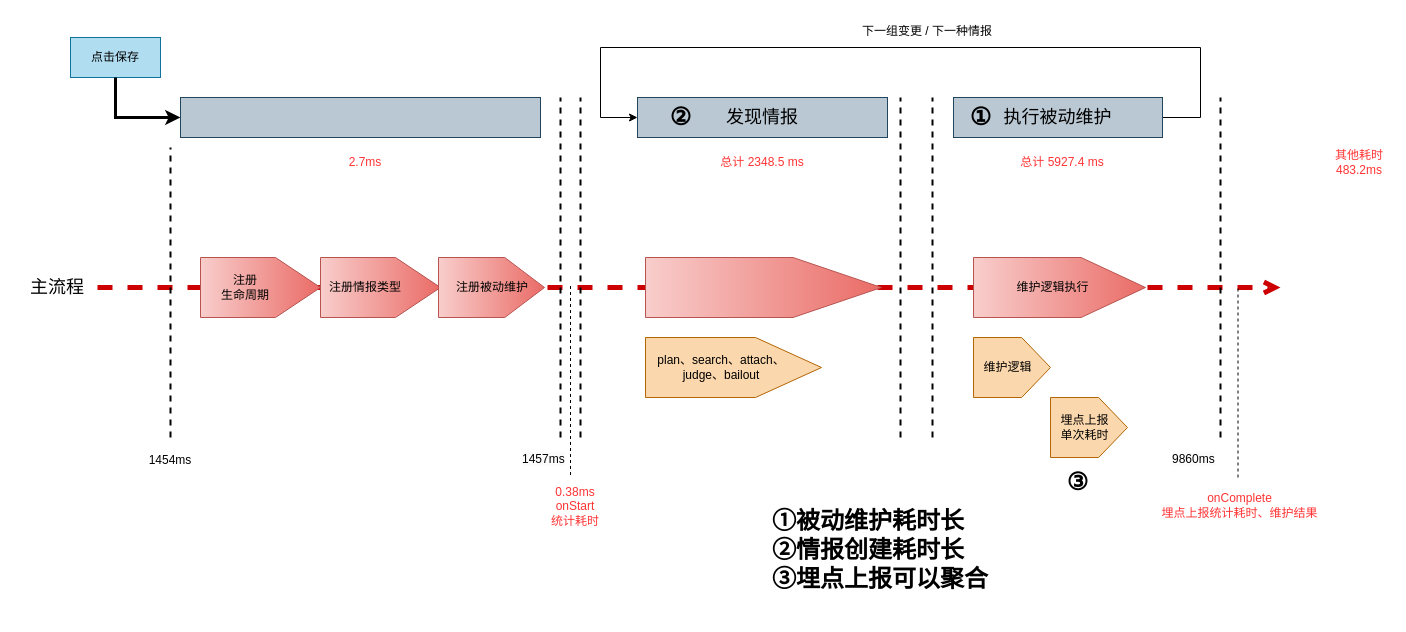
Image size: 1406x632. Some labels were removed from this diagram. The shapes that lost their labels are listed below. From the top down, each one's centre as x and y in pixels, then its label:
At [360,117]: "初始化框架".
At [763,287]: "根据情报类型 在变更中查找维护情报".
